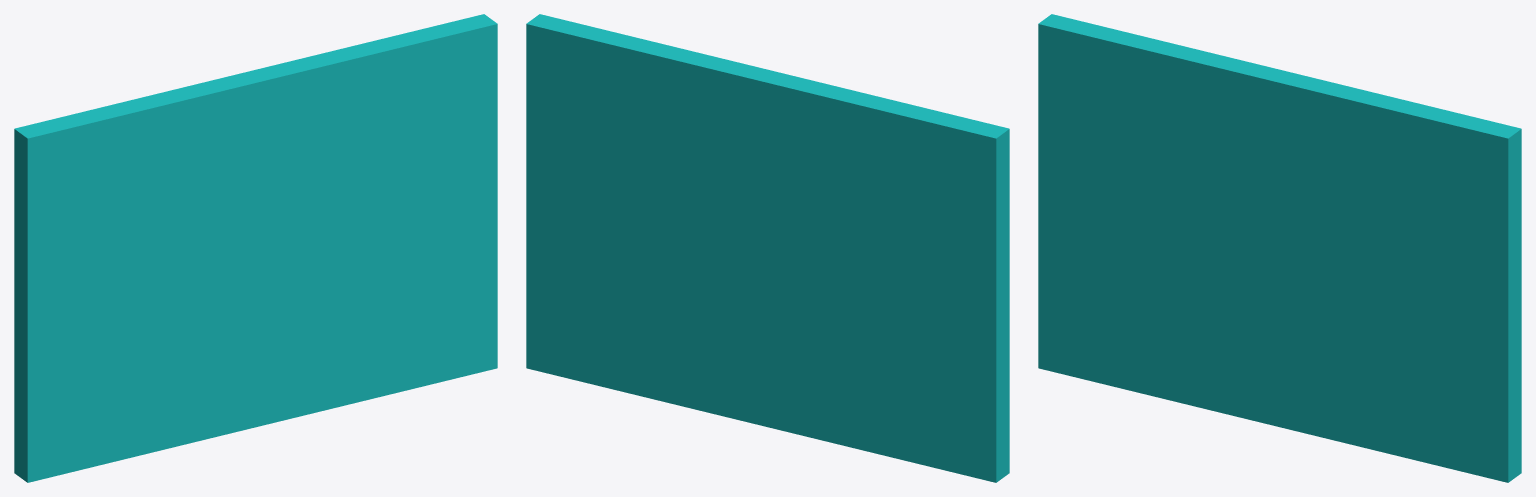
The model's file is Door01-Window.gltf.
3 views of the same model, side by side, from view 1: azimuth 30°, elevation 25°; view 2: azimuth 150°, elevation 25°; view 3: azimuth 330°, elevation 25° (orthographic).
Visible parts, largest first — view 1: Layer.2; view 2: Layer.2; view 3: Layer.2.
Boxes of the visible parts, <box> form: Layer.2: <box>14,14,497,482</box>; Layer.2: <box>526,14,1009,482</box>; Layer.2: <box>1038,14,1521,482</box>.
Size of the model in its own units: 20 by 14 by 1.
